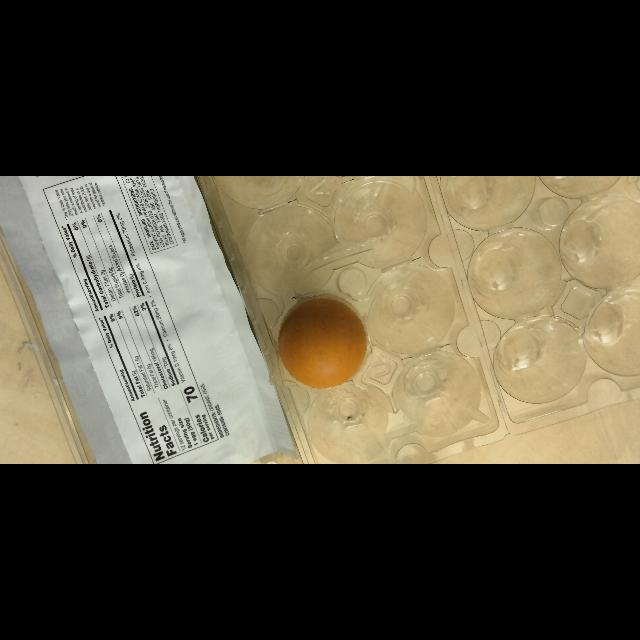Egg: (270, 287, 378, 395)
